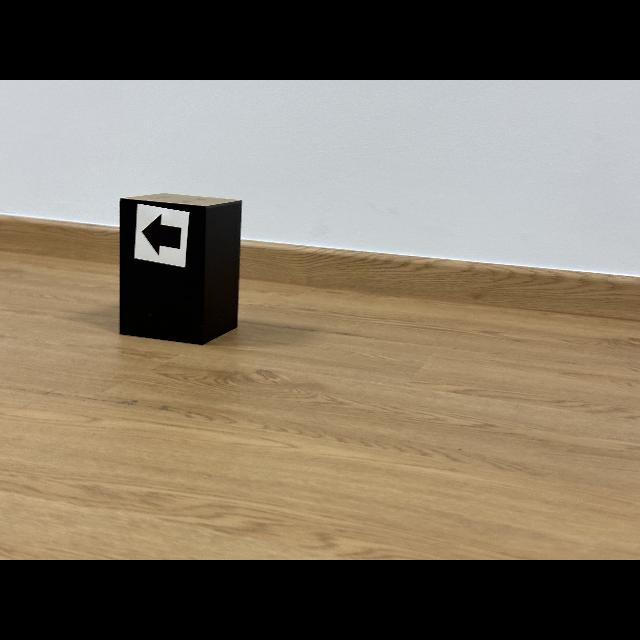LEFT: (142, 215, 181, 255)
